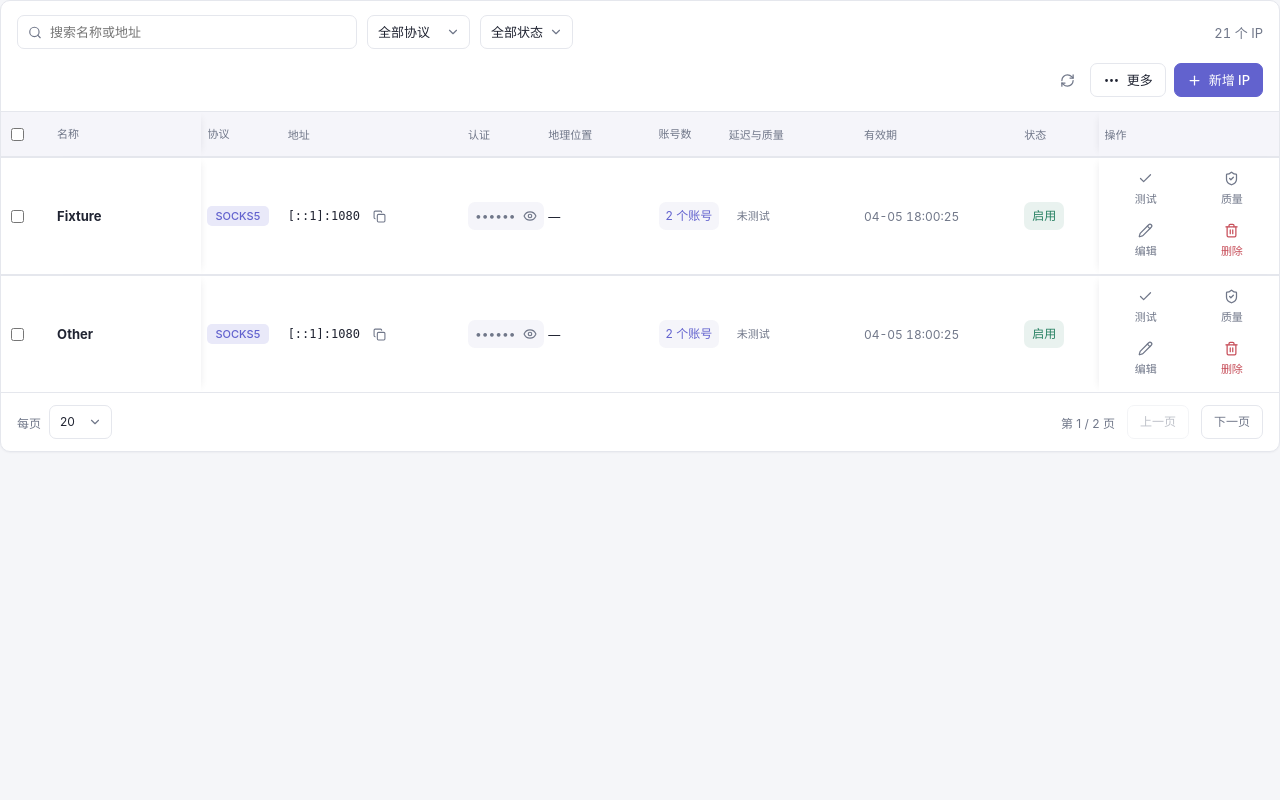
Scenario: IP administration › reports linked-account deletion failures and only deletes selected rows
The width and height of the screenshot is (1280, 800).
Click the checkbox named "全选 IP" at (18, 134), box x1=11 y1=128 x2=24 y2=140
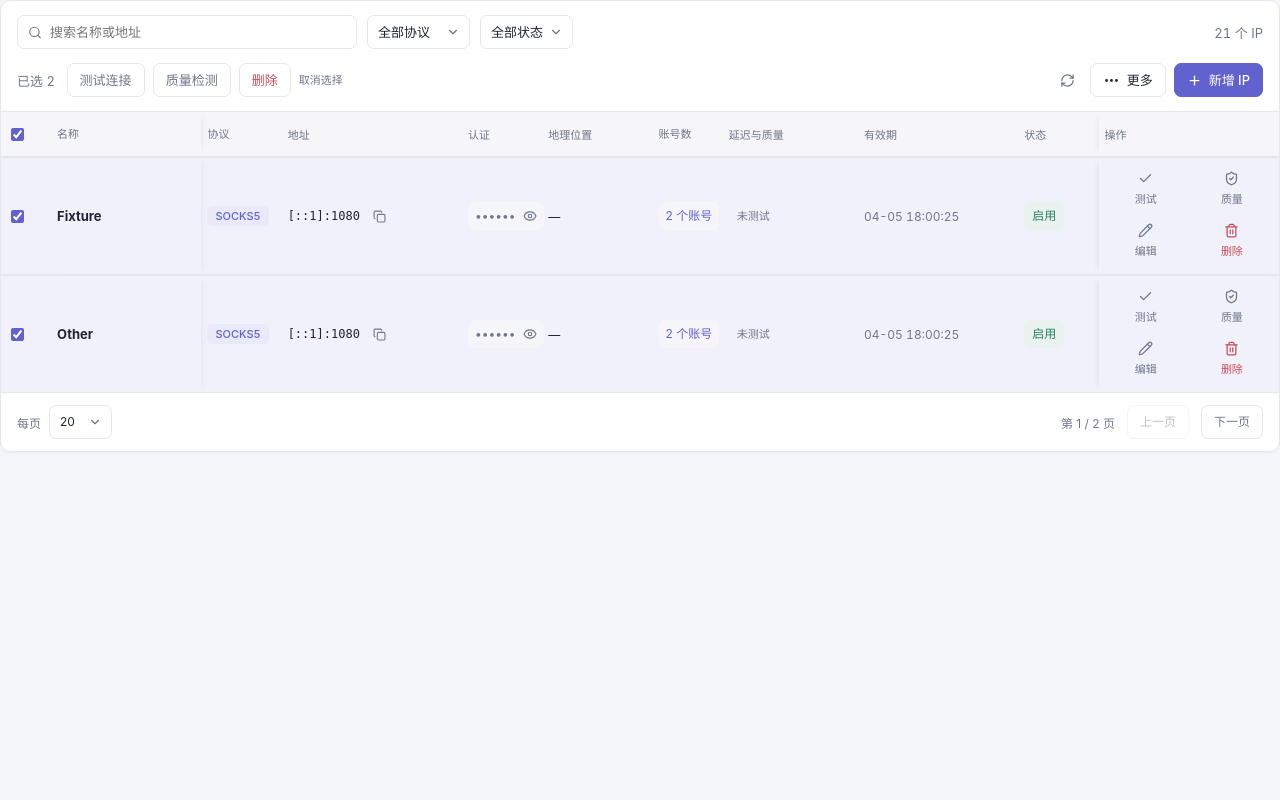
Click the button with class "danger-text" in the row of "已选" at (265, 80), box x1=239 y1=63 x2=291 y2=97
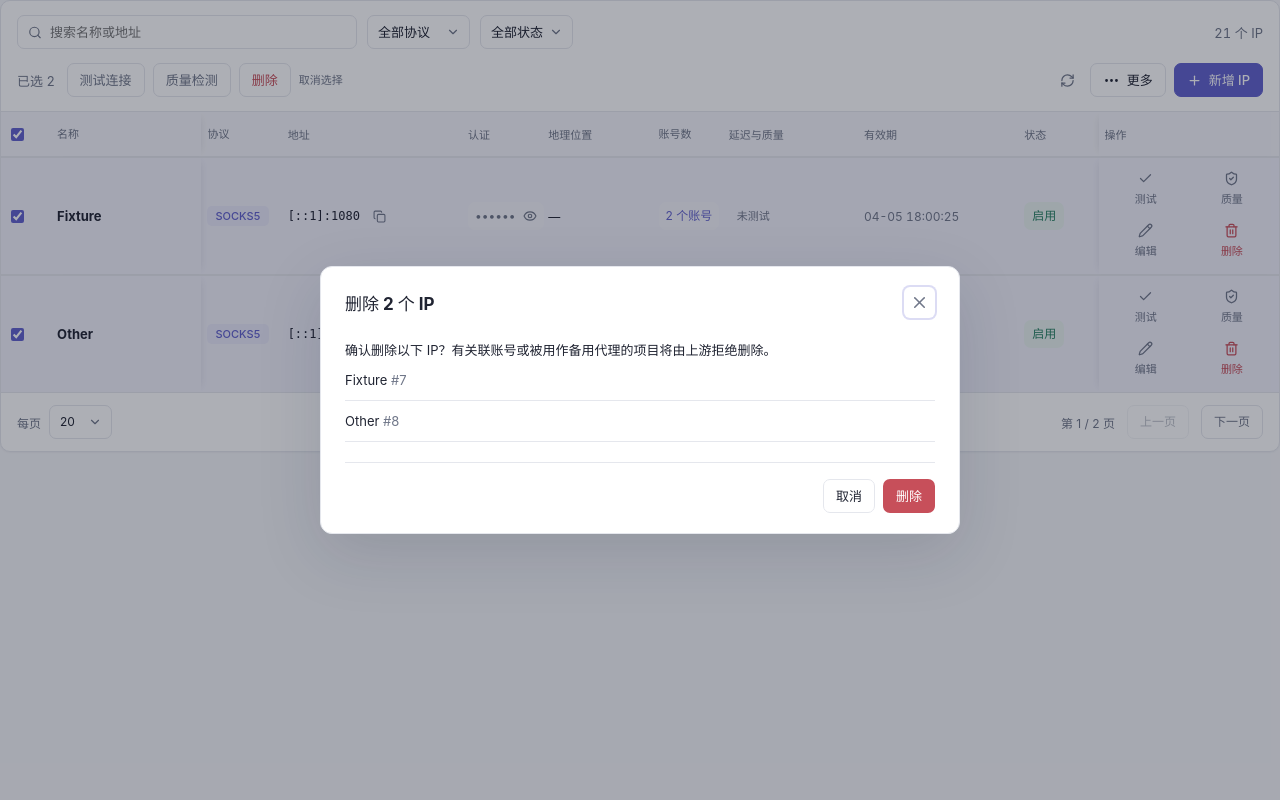
Click the button with class "danger" at (909, 496), box x1=883 y1=479 x2=935 y2=513
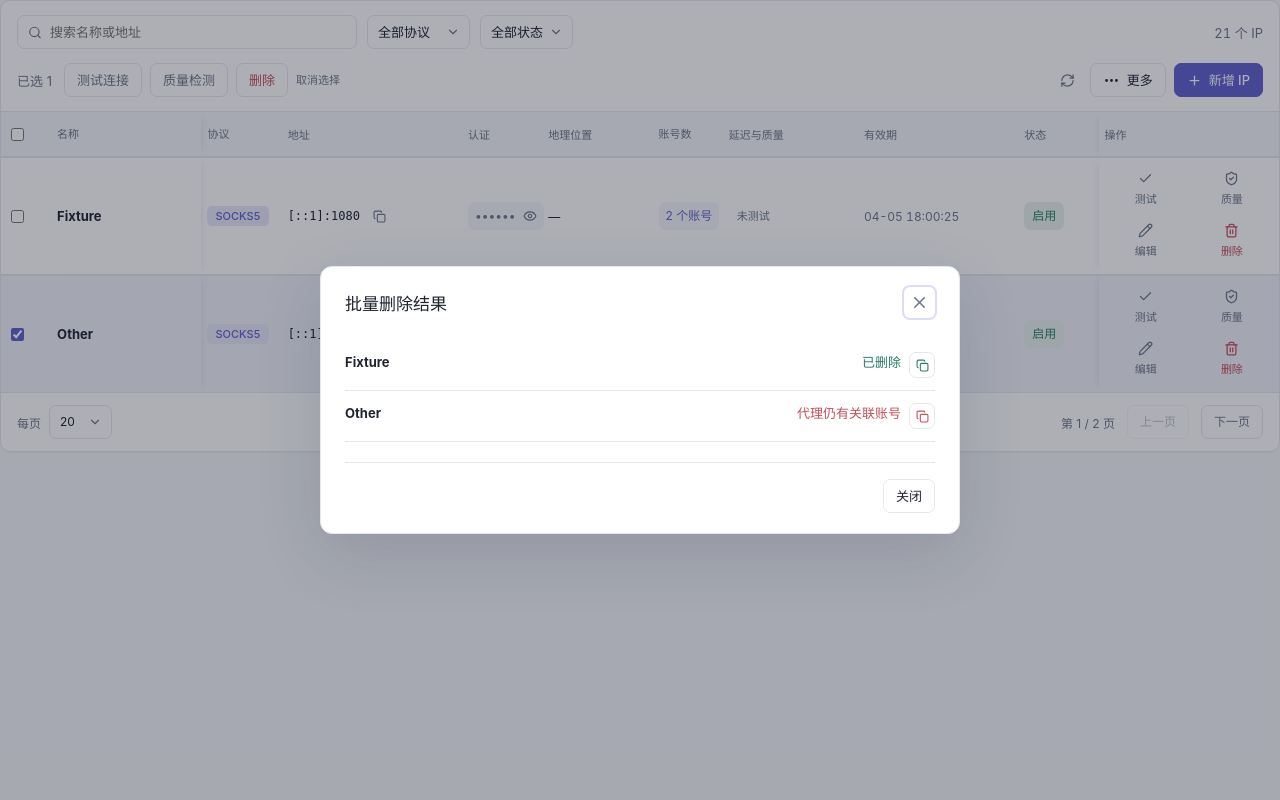
Now the text "代理仍有关联账号" is shown, box x1=797 y1=403 x2=901 y2=422
